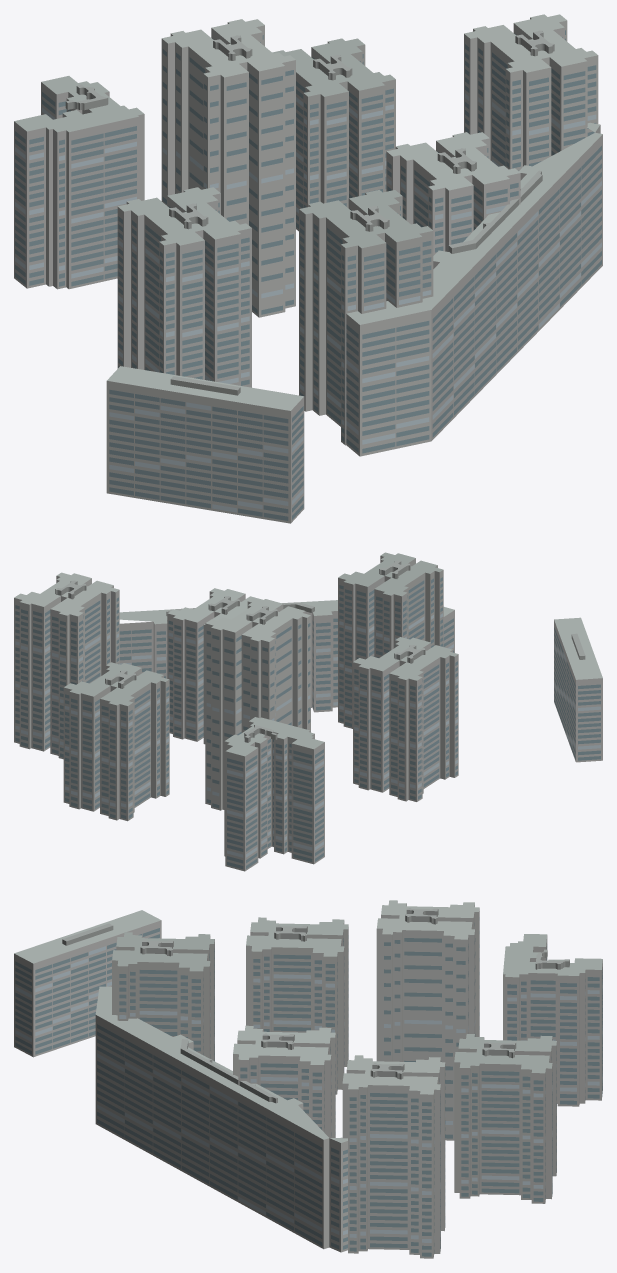
The model's file is apt-a10025097.glb.
3 views of the same model, one above another, from view 1: azimuth 30°, elevation 25°; view 2: azimuth 150°, elevation 25°; view 3: azimuth 270°, elevation 25° (orthographic). The views are drawn at different scales.
Visible parts, largest first — view 1: apt-a10025097; view 2: apt-a10025097; view 3: apt-a10025097.
Boxes of the visible parts, bbox=[...] form: apt-a10025097: bbox=[14, 14, 602, 523]; apt-a10025097: bbox=[14, 552, 602, 871]; apt-a10025097: bbox=[14, 900, 602, 1258].
Size of the model in its own units: 229 by 88 by 223.
